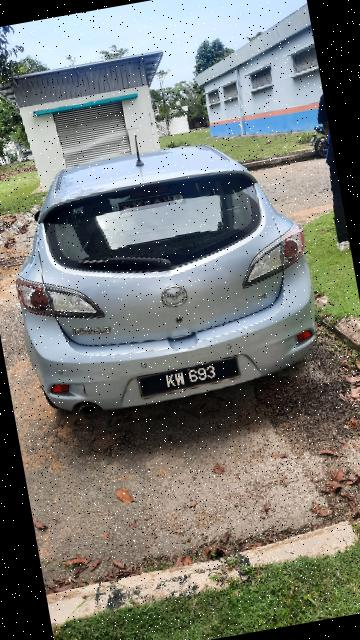License_Plate: (134, 354, 253, 403)
car: (1, 111, 339, 428)
